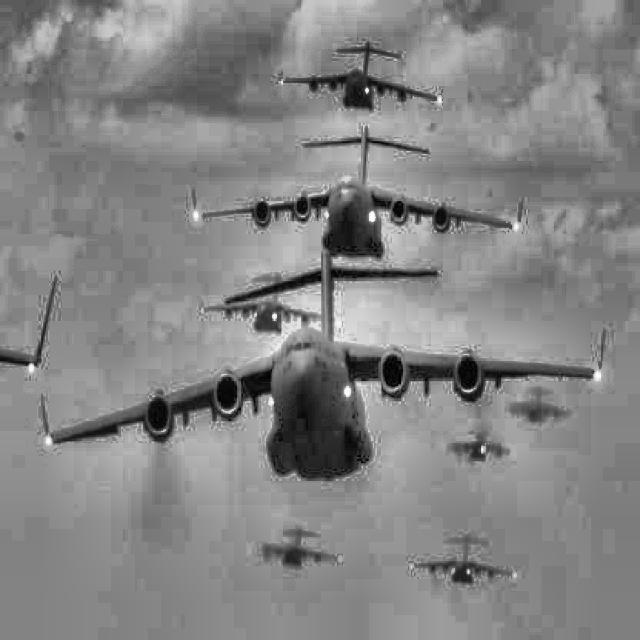C17: (39, 249, 606, 480), (192, 124, 523, 259), (279, 40, 444, 111), (199, 274, 344, 335), (410, 534, 518, 586), (247, 527, 342, 570), (506, 385, 572, 424), (447, 427, 515, 464)
